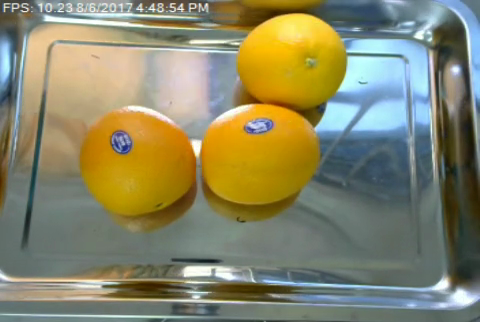Orange: (79, 105, 196, 216), (198, 101, 321, 205), (235, 11, 348, 108)
